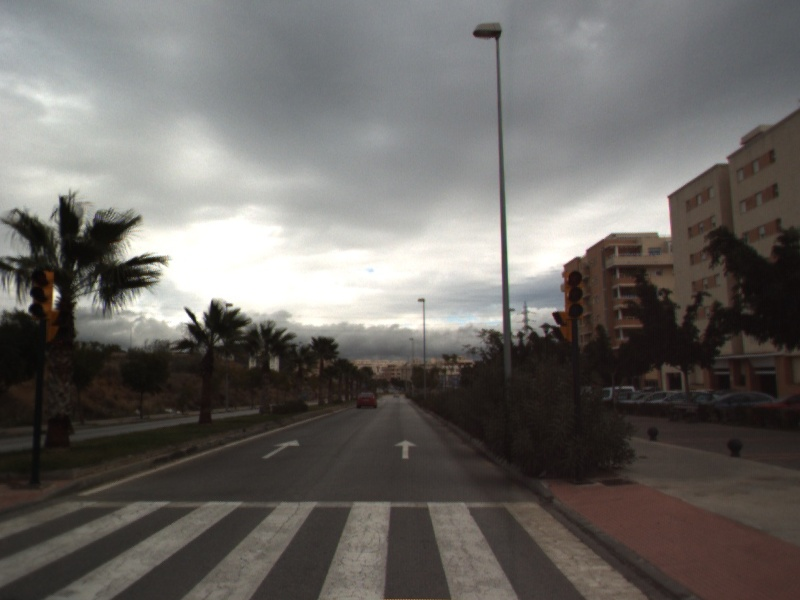STRAIGHT: (260, 438, 301, 460), (393, 438, 419, 460)
